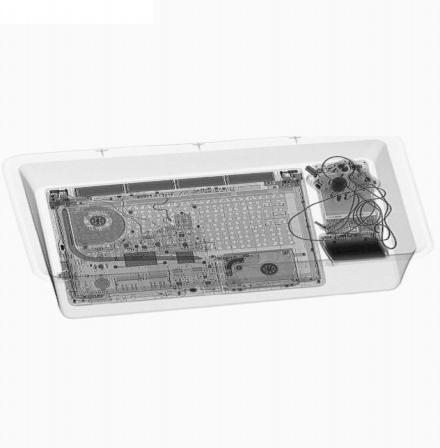Powerbank: (317, 231, 392, 263)
